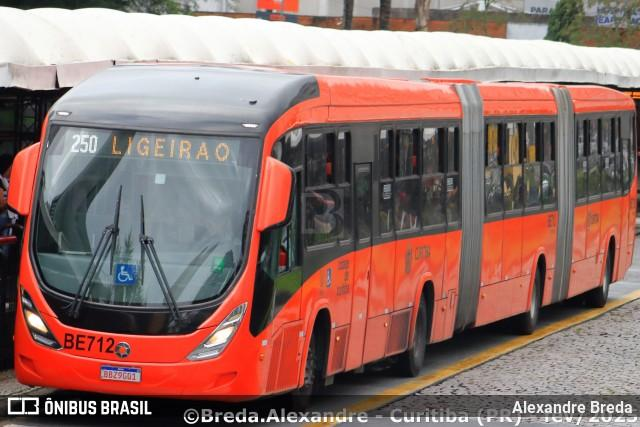LIGEIRAO: (106, 129, 236, 168)
